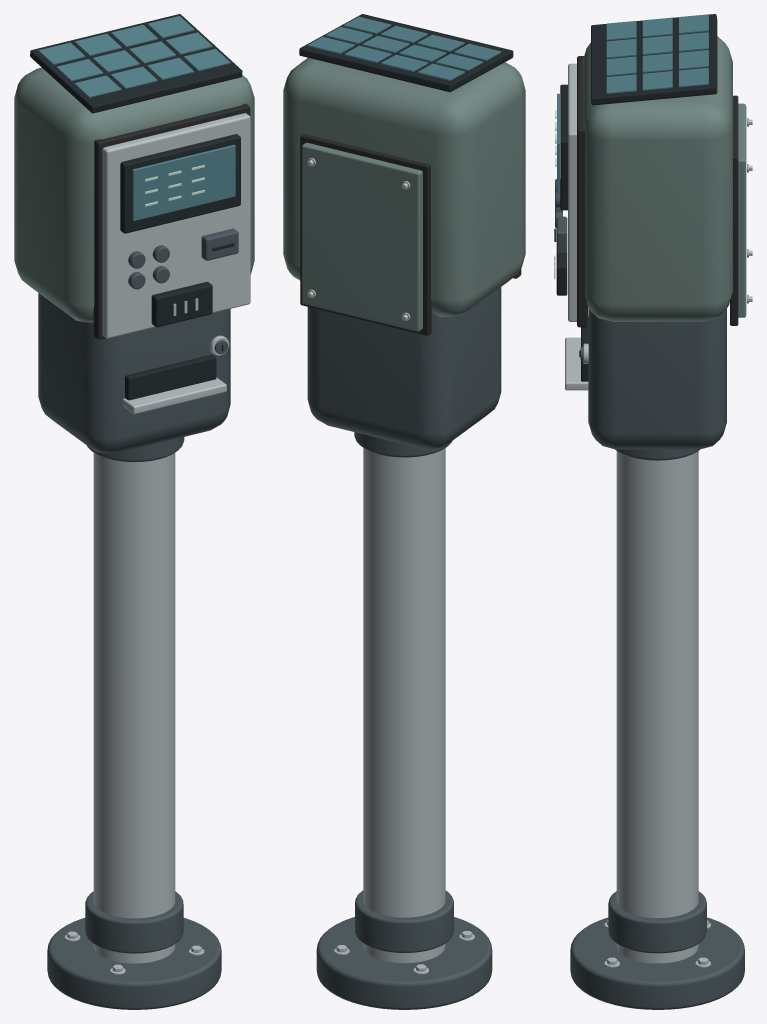
The model's file is city-parking-meter.glb.
The picture shows the model from 3 angles, left to right: view 1: azimuth 30°, elevation 25°; view 2: azimuth 150°, elevation 25°; view 3: azimuth 270°, elevation 25°; orthographic projection.
Parts seen in each view (by area): view 1: Lower tube pedestal, Meter rounded upper casing, Lower meter body, Face bezel, Meter anchor flange, Canopy solar glass, Display glass, Anti tamper lower collar, Display bezel, Face weather gasket, Payment return pocket, Contactless reader (+15 smaller); view 2: Lower tube pedestal, Meter rounded upper casing, Lower meter body, Rear battery access door, Meter anchor flange, Canopy solar glass, Anti tamper lower collar, Rear battery access seam, Upper collar; view 3: Lower tube pedestal, Meter rounded upper casing, Lower meter body, Meter anchor flange, Canopy solar glass, Anti tamper lower collar, Face weather gasket, Face bezel, Rear battery access door, Rear battery access seam, Display bezel, Return tray lower rim (+14 smaller).
Part boxes in pixels (left/top/right/bottom): Lower tube pedestal: left=93, top=453, right=175, bottom=963; Meter rounded upper casing: left=14, top=67, right=254, bottom=322; Lower meter body: left=38, top=293, right=230, bottom=453; Face bezel: left=102, top=113, right=250, bottom=338; Meter anchor flange: left=47, top=918, right=221, bottom=1009; Canopy solar glass: left=30, top=14, right=242, bottom=113; Display glass: left=132, top=144, right=235, bottom=221; Anti tamper lower collar: left=85, top=891, right=183, bottom=953; Display bezel: left=120, top=134, right=240, bottom=233; Face weather gasket: left=93, top=103, right=250, bottom=339; Payment return pocket: left=125, top=354, right=216, bottom=400; Contactless reader: left=151, top=282, right=212, bottom=327; Lower tube pedestal: left=363, top=448, right=445, bottom=963; Meter rounded upper casing: left=283, top=57, right=525, bottom=316; Lower meter body: left=307, top=287, right=501, bottom=449; Rear battery access door: left=302, top=142, right=422, bottom=331; Meter anchor flange: left=316, top=917, right=492, bottom=1009; Canopy solar glass: left=299, top=14, right=513, bottom=92; Anti tamper lower collar: left=355, top=890, right=453, bottom=952; Rear battery access seam: left=300, top=133, right=431, bottom=335; Upper collar: left=354, top=432, right=452, bottom=457; Lower tube pedestal: left=616, top=451, right=698, bottom=963; Meter rounded upper casing: left=583, top=36, right=732, bottom=321; Lower meter body: left=588, top=308, right=726, bottom=449; Meter anchor flange: left=570, top=917, right=744, bottom=1009; Canopy solar glass: left=591, top=14, right=717, bottom=105; Anti tamper lower collar: left=608, top=891, right=706, bottom=953; Face weather gasket: left=577, top=56, right=587, bottom=327; Face bezel: left=568, top=63, right=576, bottom=321; Rear battery access door: left=738, top=103, right=746, bottom=317; Rear battery access seam: left=730, top=95, right=738, bottom=325; Display bezel: left=560, top=84, right=567, bottom=210; Return tray lower rim: left=565, top=337, right=588, bottom=390.
Bounding box in the file's own units: 0.36 × 1.7 × 0.33.
